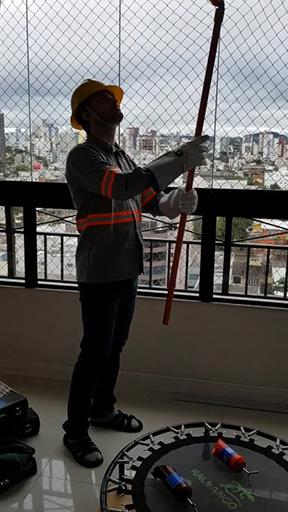Detector_Tensao_Contato: (211, 439, 258, 481)
Vara_Manobra: (162, 7, 225, 326)
